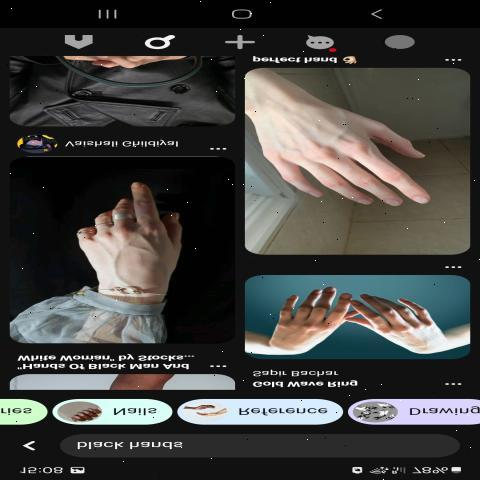Hands: (254, 84, 460, 227), (71, 183, 191, 318), (255, 284, 352, 356), (360, 285, 446, 363)
